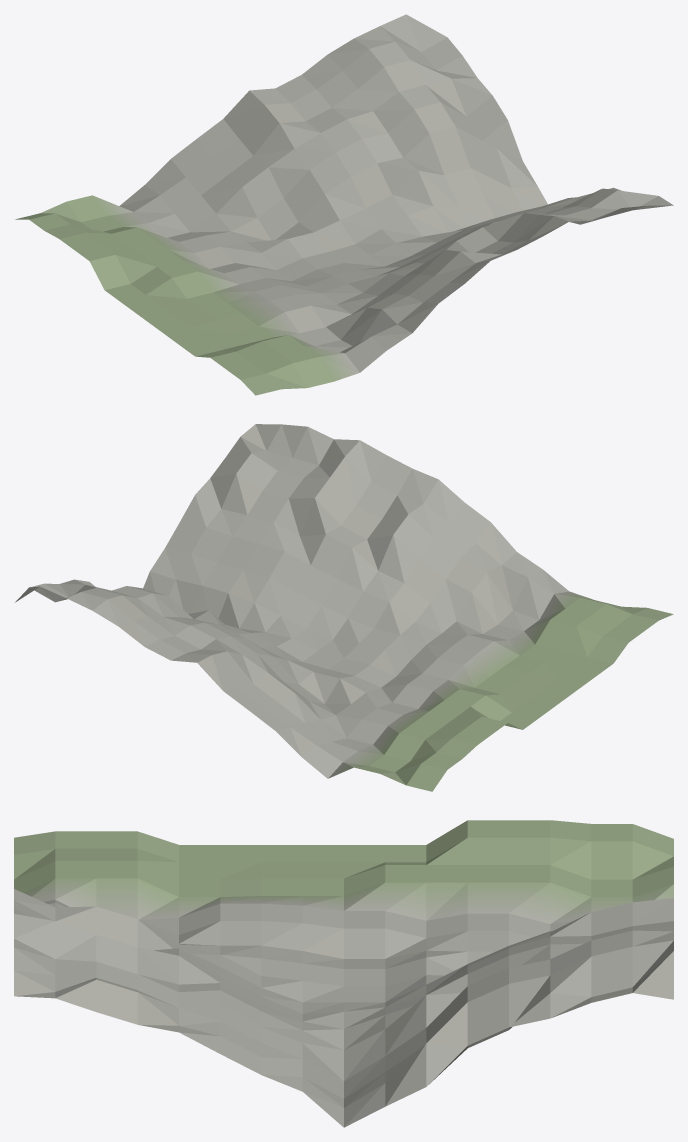
3 renders of one model, top to bottom at view 1: azimuth 30°, elevation 25°; view 2: azimuth 150°, elevation 25°; view 3: azimuth 270°, elevation 25°, orthographic. The views are drawn at different scales.
Size of the model in its own units: 32 by 8.93 by 32.
